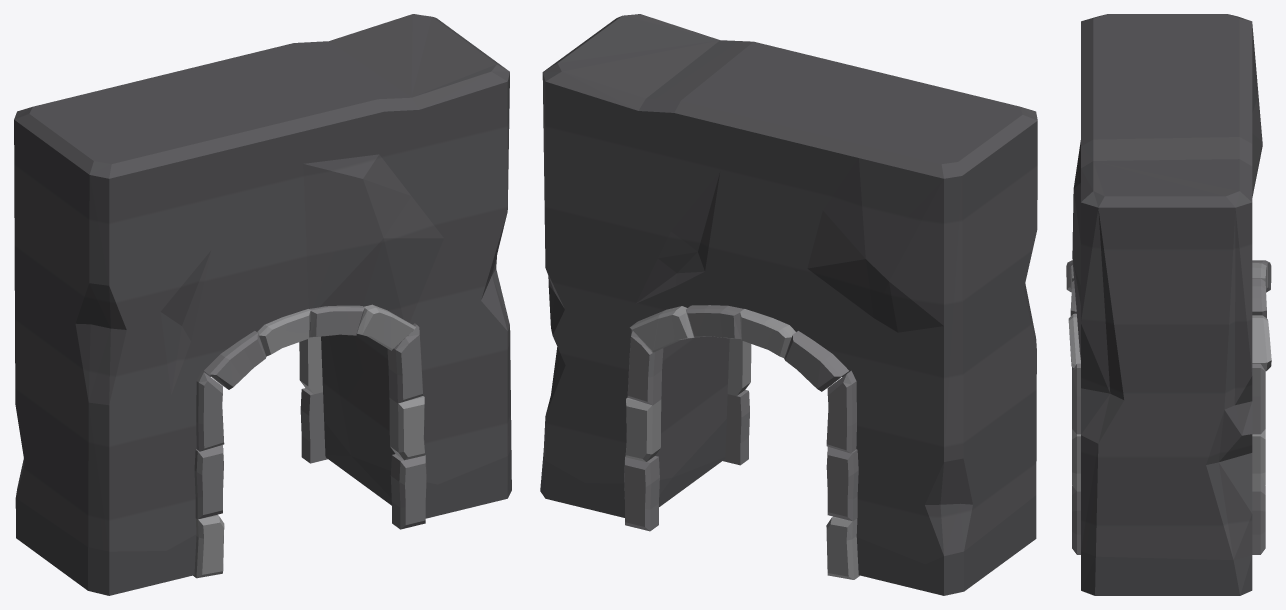
File: SM_Bld_Castle_Wall_Gate_01_Lite.gltf
3 views of the same model, side by side, from view 1: azimuth 30°, elevation 25°; view 2: azimuth 150°, elevation 25°; view 3: azimuth 270°, elevation 25° (orthographic). The views are drawn at different scales.
Parts seen in each view (by area): view 1: SM_Bld_Castle_Wall_Gate_01_Lite; view 2: SM_Bld_Castle_Wall_Gate_01_Lite; view 3: SM_Bld_Castle_Wall_Gate_01_Lite.
Part boxes in pixels (x1,y1,x2,y2): SM_Bld_Castle_Wall_Gate_01_Lite: [14, 14, 511, 595]; SM_Bld_Castle_Wall_Gate_01_Lite: [540, 14, 1037, 595]; SM_Bld_Castle_Wall_Gate_01_Lite: [1066, 14, 1271, 595].
Bounding box in the file's own units: 5.28 × 5.13 × 2.4.
1 material, 1 textured.
